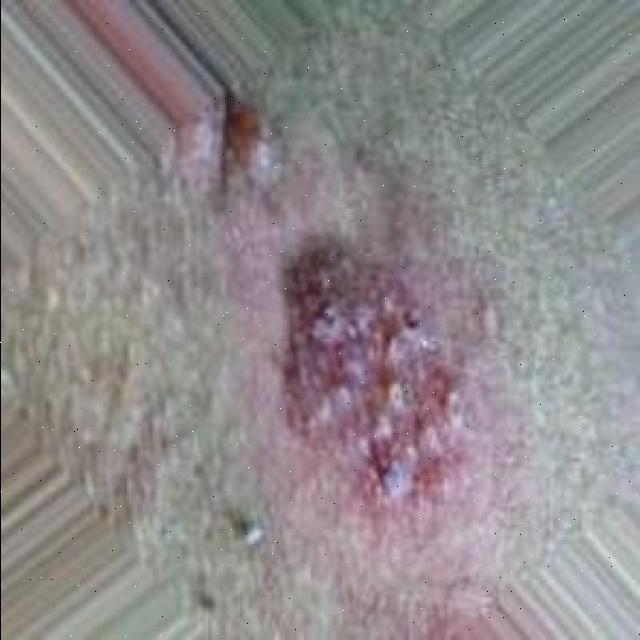Shingles: (272, 233, 470, 509)
